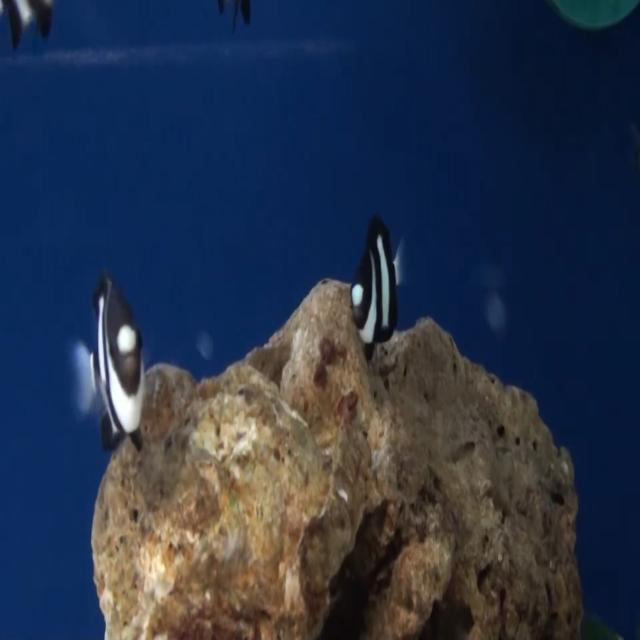ThreeStripedDamselfish: (76, 273, 144, 453), (352, 216, 401, 347)
